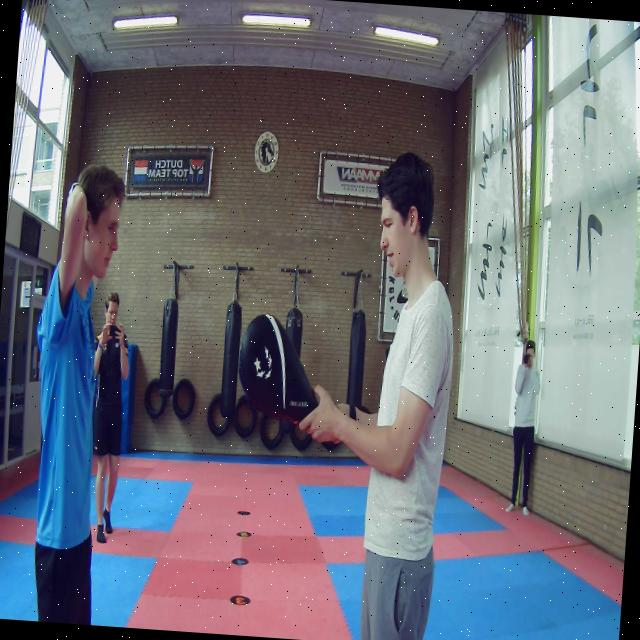paddle: (238, 311, 318, 421)
